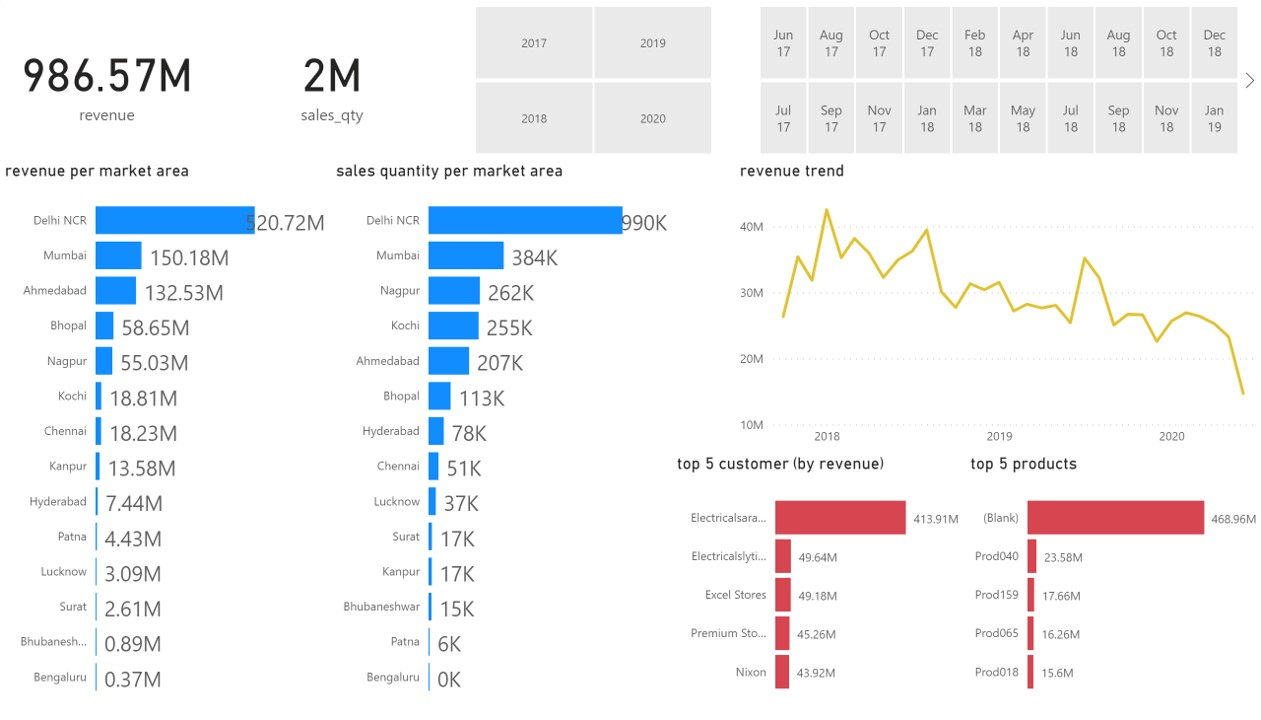

What the dashboard file says about the page in this screenshot:
{"tool":"powerbi","page":{"name":"Page 1","canvas":[1280,720],"ordinal":0},"visuals":[{"type":"card","fields":{"Values":["base_measures.revenue"]},"box":[0,0,216.9,162.7],"z":0},{"type":"card","fields":{"Values":["base_measures.sales_qty"]},"box":[216.9,0,239.9,162.7],"z":1000},{"type":"clusteredBarChart","title":"revenue per market area","fields":{"Y":["base_measures.revenue"],"Category":["sales markets.markets_name"]},"box":[0,162.7,335.2,557],"z":2000},{"type":"clusteredBarChart","title":"sales quantity per market area","fields":{"Category":["sales markets.markets_name"],"Y":["base_measures.sales_qty"]},"box":[335.8,162.8,346.1,557.2],"z":3000},{"type":"slicer","fields":{"Values":["sales date.year"]},"box":[456.8,0,289.2,162.7],"z":4000},{"type":"slicer","fields":{"Values":["sales date.cy_date"]},"box":[746,0,534,162.7],"z":5000},{"type":"clusteredBarChart","title":"top 5 customer (by revenue)","fields":{"Category":["sales customers.custmer_name"],"Y":["base_measures.revenue"]},"box":[681.9,460.4,297.7,259.6],"z":6000},{"type":"clusteredBarChart","title":"top 5 products","fields":{"Y":["base_measures.revenue"],"Category":["sales products.product_code"]},"box":[979.6,460.4,300.6,259.6],"z":7000},{"type":"lineChart","title":"revenue trend","fields":{"Y":["base_measures.revenue"],"Category":["sales date.cy_date"]},"box":[746,162.8,534,297.7],"z":8000}]}

Visuals, with their boxes in screenshot pixels (x1, y1, x2, y2), scaled from the page's 1280x720 canvas onto the 1261x720 screenshot:
card - base_measures.revenue: <region>0, 0, 214, 163</region>
card - base_measures.sales_qty: <region>214, 0, 450, 163</region>
"revenue per market area" clusteredBarChart: <region>0, 163, 330, 719</region>
"sales quantity per market area" clusteredBarChart: <region>331, 163, 672, 719</region>
slicer - sales date.year: <region>450, 0, 735, 163</region>
slicer - sales date.cy_date: <region>735, 0, 1260, 163</region>
"top 5 customer (by revenue)" clusteredBarChart: <region>672, 460, 965, 719</region>
"top 5 products" clusteredBarChart: <region>965, 460, 1260, 719</region>
"revenue trend" lineChart: <region>735, 163, 1260, 460</region>
